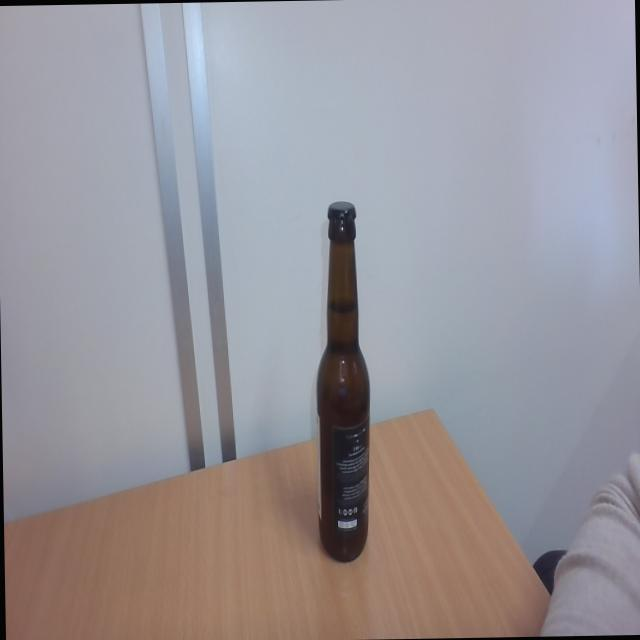Bottle: (313, 232, 375, 561)
Cap: (324, 196, 359, 229)
Label: (325, 418, 370, 538)
